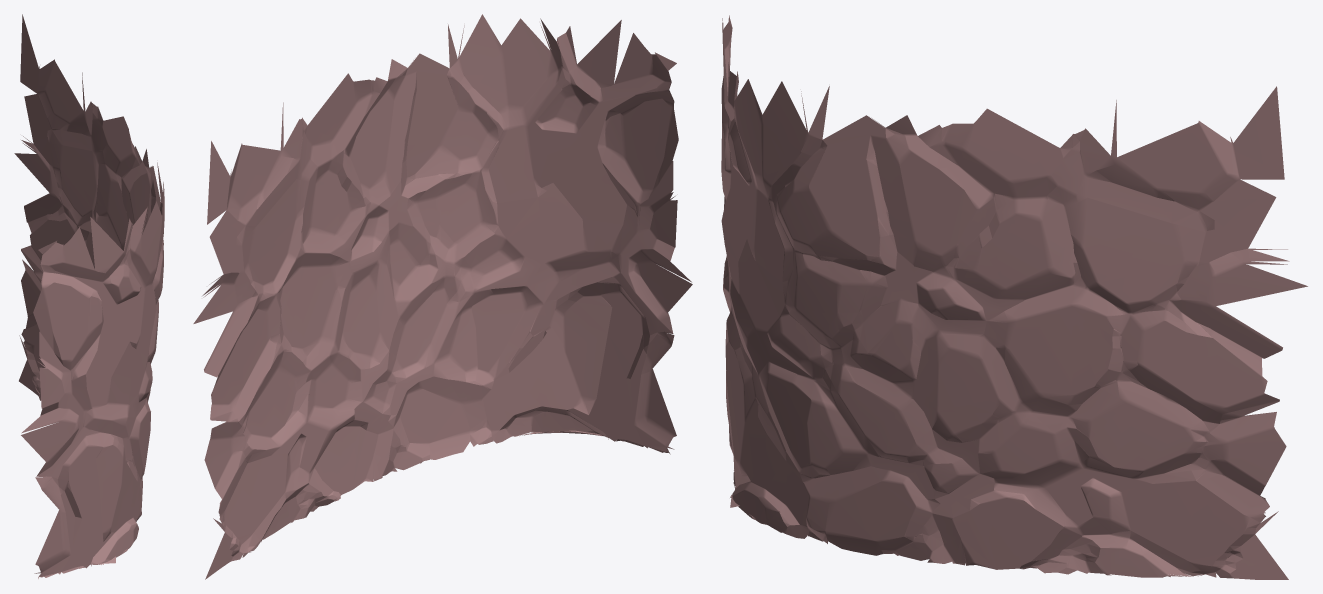
File: plateau.fbx_Rock_Plateau_039LODs.fbx
The picture shows the model from 3 angles, left to right: view 1: azimuth 30°, elevation 25°; view 2: azimuth 150°, elevation 25°; view 3: azimuth 270°, elevation 25°; orthographic projection. The views are drawn at different scales.
Parts seen in each view (by area): view 1: Rock Plateau.039_LOD0; view 2: Rock Plateau.039_LOD0; view 3: Rock Plateau.039_LOD0.
Boxes of the visible parts, box(x1,y1,x2,y2) form: Rock Plateau.039_LOD0: box(14, 14, 164, 578); Rock Plateau.039_LOD0: box(193, 14, 692, 579); Rock Plateau.039_LOD0: box(721, 15, 1307, 579).
Size of what is drawn, in the model's own units: 2598 by 4406 by 4728.
